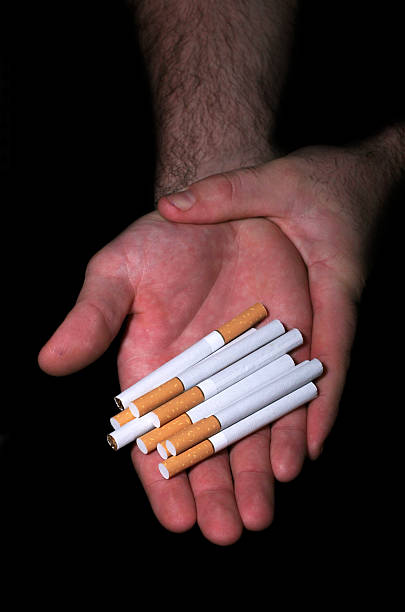cigarette: (108, 301, 269, 412), (145, 326, 306, 430), (134, 353, 296, 455), (127, 318, 287, 419), (157, 380, 320, 479), (164, 356, 325, 456), (106, 415, 155, 450), (106, 408, 135, 430), (155, 441, 171, 461)
